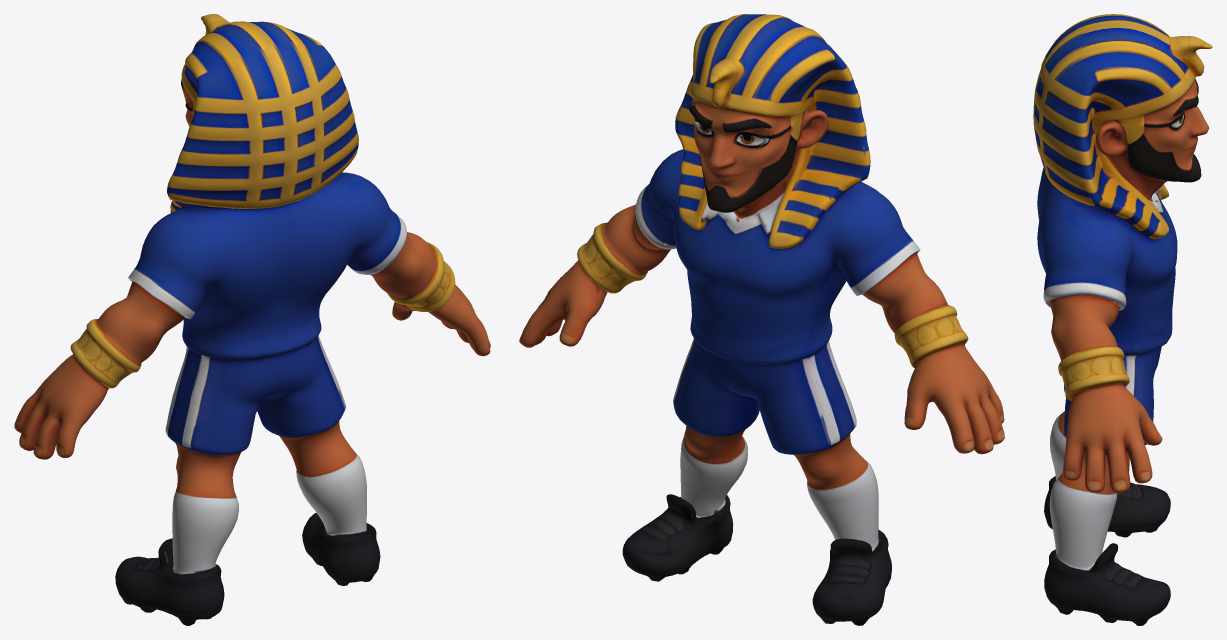
The model's file is rey.glb.
3 views of the same model, side by side, from view 1: azimuth 30°, elevation 25°; view 2: azimuth 150°, elevation 25°; view 3: azimuth 270°, elevation 25° (orthographic). The views are drawn at different scales.
Visible parts, largest first — view 1: char; view 2: char; view 3: char.
Part boxes in pixels (x1,y1,x2,y2): char: (14, 14, 490, 625); char: (519, 14, 1004, 625); char: (1033, 14, 1212, 625).
Size of the model in its own units: 1.46 by 1.7 by 0.5017.
1 material, 1 textured.
